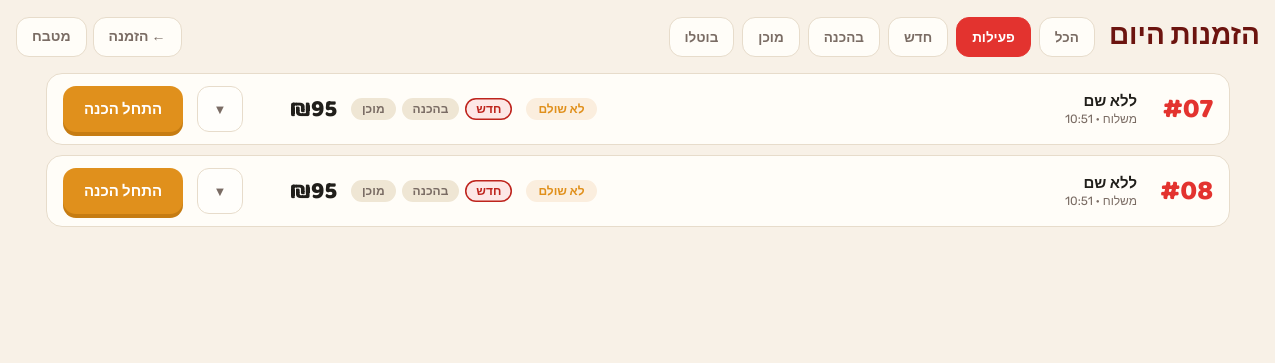
orders list + cancel › cancels an order with a confirm step and moves it to the cancelled filter
Click the button named "הצג פרטים".
click(220, 109)  # box [197, 86, 243, 132]
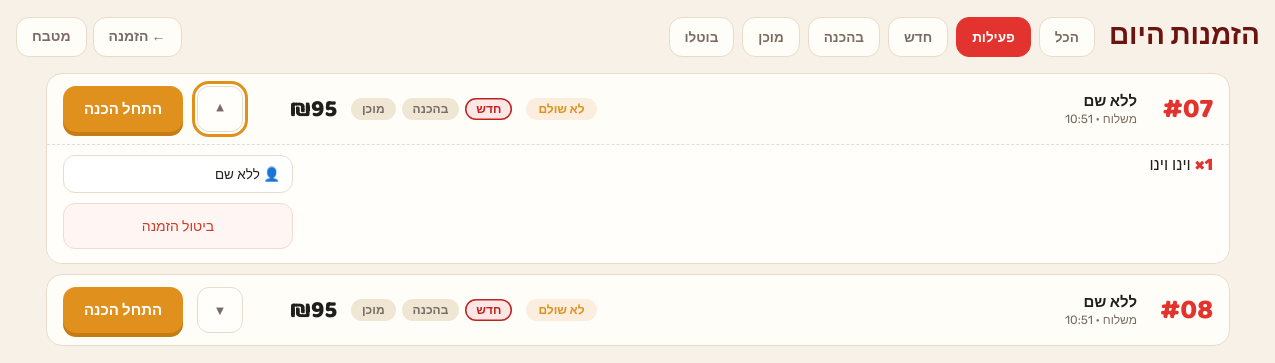
Click the button "ביטול הזמנה".
click(178, 226)  # box [63, 203, 293, 249]
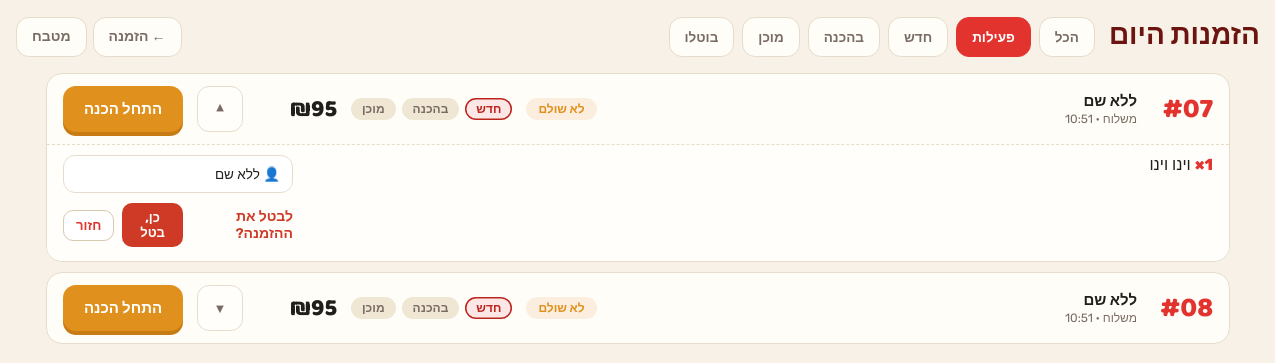
Note: confirm step
Click the button "כן, בטל".
click(153, 225)  # box [122, 203, 183, 247]
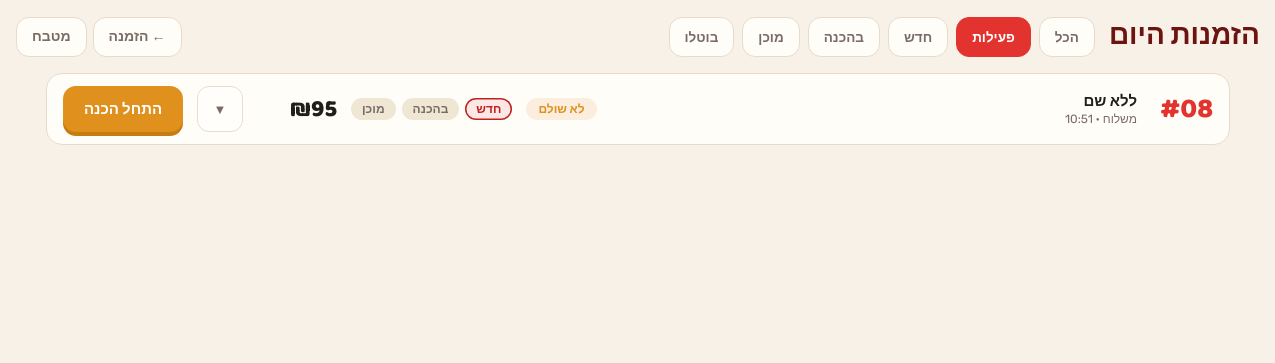
Expected: the text "#08" is shown, [1160, 86, 1213, 132]
Result: the text "#07" is gone
Note: shows under the cancelled filter with a "בוטל" badge
Click the button "בוטלו".
click(701, 36)  # box [668, 16, 734, 56]
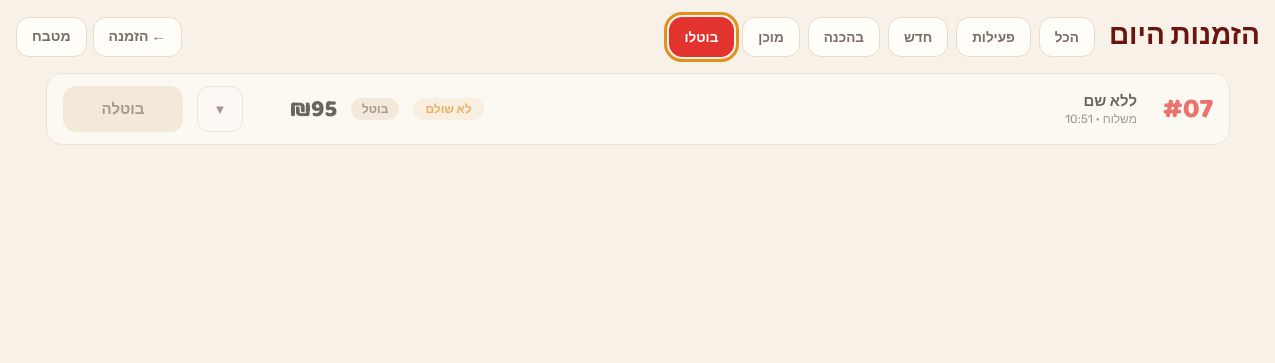
Result: the text "#07" is shown at [1163, 86, 1213, 132]
Result: the text "בוטל" is shown at [351, 98, 399, 120]
